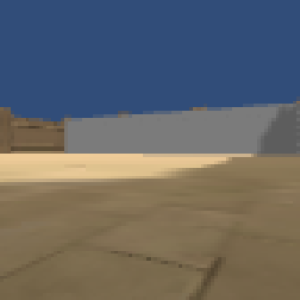wall: (63, 101, 300, 157)
